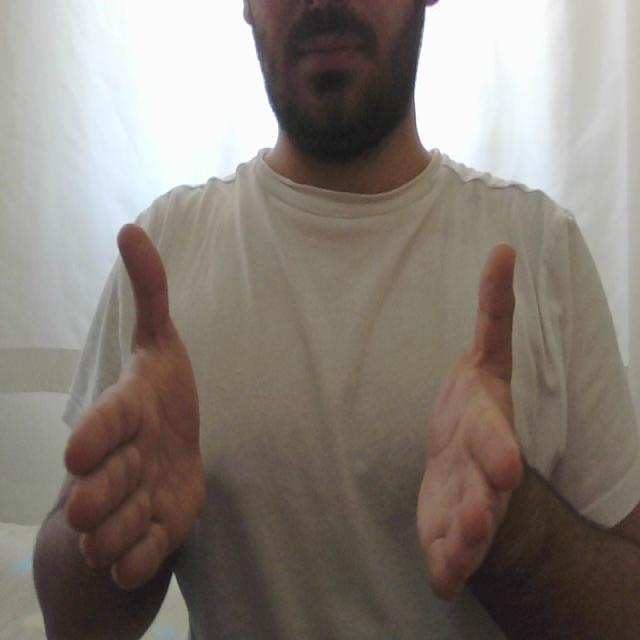Nasil: (57, 216, 526, 616)
